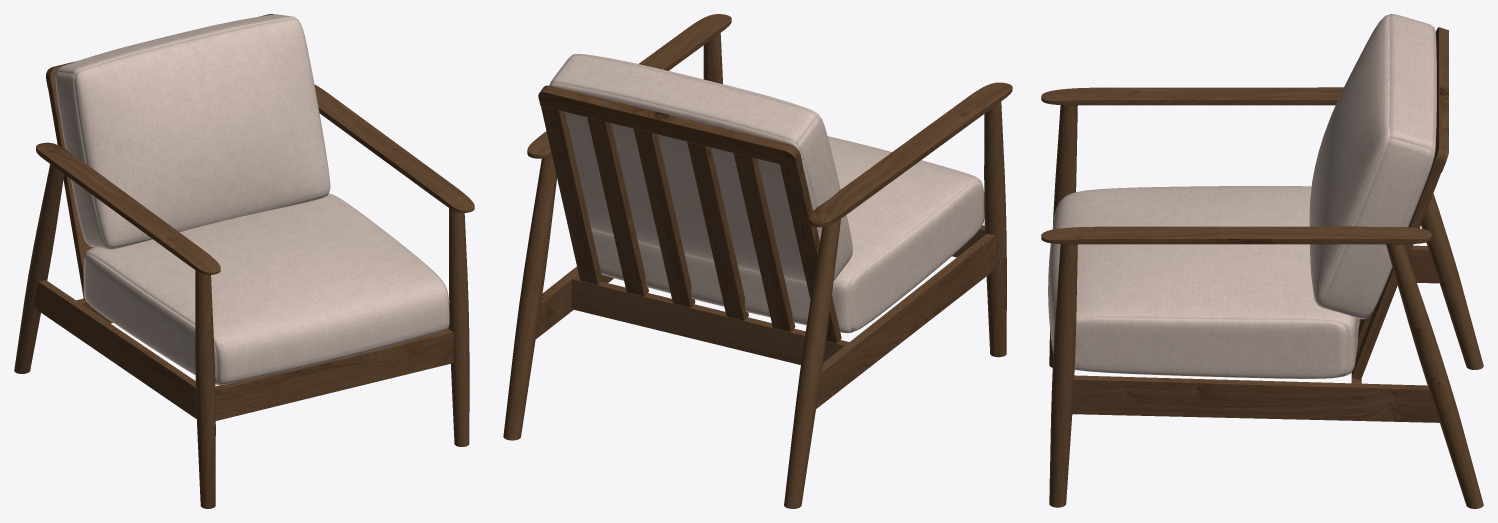
Rendered from chair_66_08.001.fbx.
3 renders of one model, left to right at view 1: azimuth 30°, elevation 25°; view 2: azimuth 150°, elevation 25°; view 3: azimuth 270°, elevation 25°, orthographic. The views are drawn at different scales.
Parts seen in each view (by area): view 1: chair_66_08.001; view 2: chair_66_08.001; view 3: chair_66_08.001.
Part boxes in pixels (x1,y1,x2,y2): chair_66_08.001: [14, 14, 474, 508]; chair_66_08.001: [503, 14, 1012, 508]; chair_66_08.001: [1041, 14, 1483, 508].
Bounding box in the file's own units: 76.92 × 87.18 × 95.18.
1 material, 1 textured.
